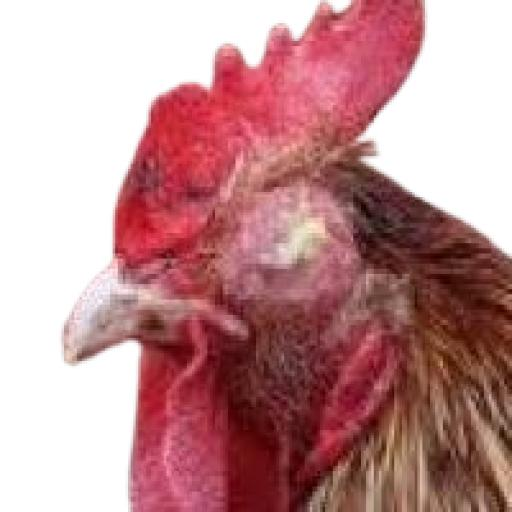disease: (178, 152, 386, 332)
